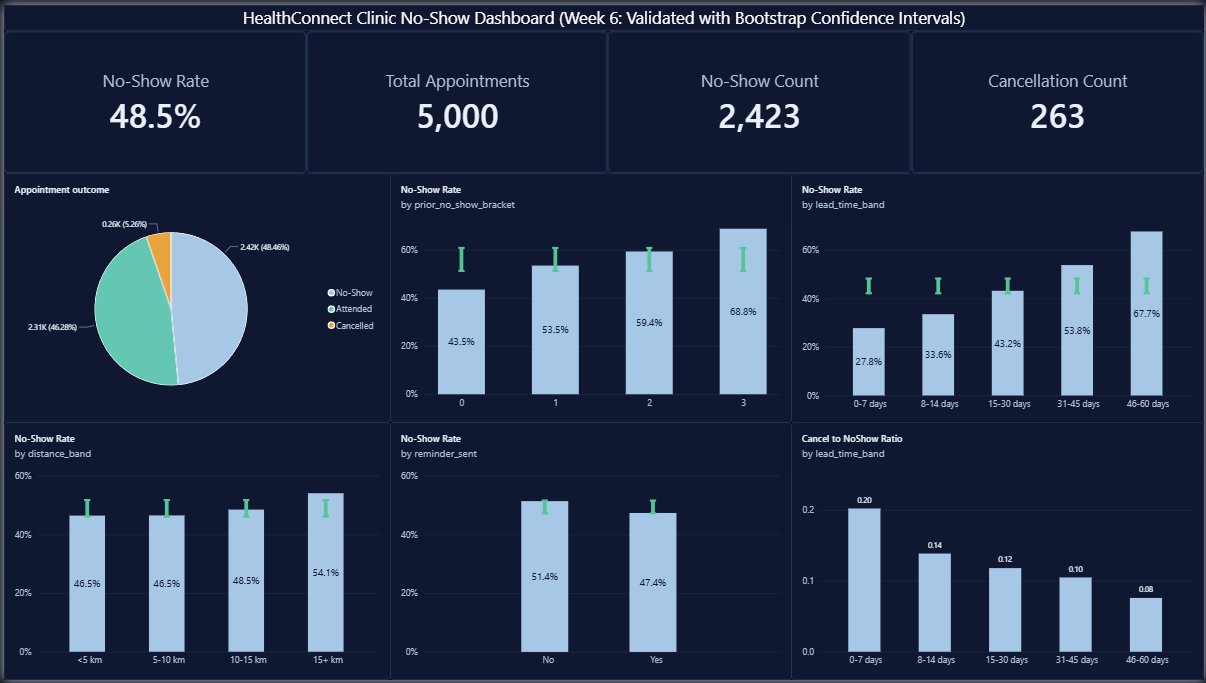

What the dashboard file says about the page in this screenshot:
{"tool":"powerbi","page":{"name":"Page 1","canvas":[1920,1080],"ordinal":0},"visuals":[{"type":"pieChart","title":"Appointment outcome","fields":{"Category":["healthconnect_appointments_prepared.appointment_outcome"],"Y":["CountNonNull(healthconnect_appointments_prepared.appointment_id)"]},"box":[0,270,618,398],"z":0},{"type":"clusteredColumnChart","fields":{"Y":["healthconnect_appointments_prepared.No-Show Rate"],"Category":["healthconnect_appointments_prepared.prior_no_show_bracket"]},"box":[618,270,642,398],"z":1000},{"type":"clusteredColumnChart","fields":{"Y":["healthconnect_appointments_prepared.No-Show Rate"],"Category":["healthconnect_appointments_prepared.distance_band"]},"box":[0,668,618,412],"z":2000},{"type":"clusteredColumnChart","fields":{"Y":["healthconnect_appointments_prepared.No-Show Rate"],"Category":["healthconnect_appointments_prepared.reminder_sent"]},"box":[618,668,642.3,412.3],"z":3000},{"type":"clusteredColumnChart","fields":{"Category":["healthconnect_appointments_prepared.lead_time_band"],"Y":["healthconnect_appointments_prepared.No-Show Rate"]},"box":[1260,270,660,400],"z":4000},{"type":"clusteredColumnChart","fields":{"Y":["healthconnect_appointments_prepared.Cancel to NoShow Ratio"],"Category":["healthconnect_appointments_prepared.lead_time_band"]},"box":[1260,668,660,412],"z":5000},{"type":"textbox","box":[0,0,1920.4,41.7],"z":6000},{"type":"cardVisual","fields":{"Data":["healthconnect_appointments_prepared.No-Show Rate"]},"box":[0,42.3,484.1,228.2],"z":7000},{"type":"cardVisual","fields":{"Data":["healthconnect_appointments_prepared.Total Appointments"]},"box":[484.1,42.3,482.2,228.2],"z":8000},{"type":"cardVisual","fields":{"Data":["healthconnect_appointments_prepared.No-Show Count"]},"box":[966.3,42.3,485.9,228.2],"z":9000},{"type":"cardVisual","fields":{"Data":["healthconnect_appointments_prepared.Cancellation Count"]},"box":[1452.2,42.3,467.5,228.2],"z":10000}]}

Visuals, with their boxes in screenshot pixels (x1, y1, x2, y2), scaled from the page's 1920x1080 canvas onto the 1206x683 screenshot:
"Appointment outcome" pieChart: crop(0, 171, 388, 422)
clusteredColumnChart - healthconnect_appointments_prepared.No-Show Rate x healthconnect_appointments_prepared.prior_no_show_bracket: crop(388, 171, 791, 422)
clusteredColumnChart - healthconnect_appointments_prepared.No-Show Rate x healthconnect_appointments_prepared.distance_band: crop(0, 422, 388, 682)
clusteredColumnChart - healthconnect_appointments_prepared.No-Show Rate x healthconnect_appointments_prepared.reminder_sent: crop(388, 422, 792, 682)
clusteredColumnChart - healthconnect_appointments_prepared.lead_time_band x healthconnect_appointments_prepared.No-Show Rate: crop(791, 171, 1205, 424)
clusteredColumnChart - healthconnect_appointments_prepared.Cancel to NoShow Ratio x healthconnect_appointments_prepared.lead_time_band: crop(791, 422, 1205, 682)
textbox: crop(0, 0, 1205, 26)
cardVisual - healthconnect_appointments_prepared.No-Show Rate: crop(0, 27, 304, 171)
cardVisual - healthconnect_appointments_prepared.Total Appointments: crop(304, 27, 607, 171)
cardVisual - healthconnect_appointments_prepared.No-Show Count: crop(607, 27, 912, 171)
cardVisual - healthconnect_appointments_prepared.Cancellation Count: crop(912, 27, 1205, 171)
